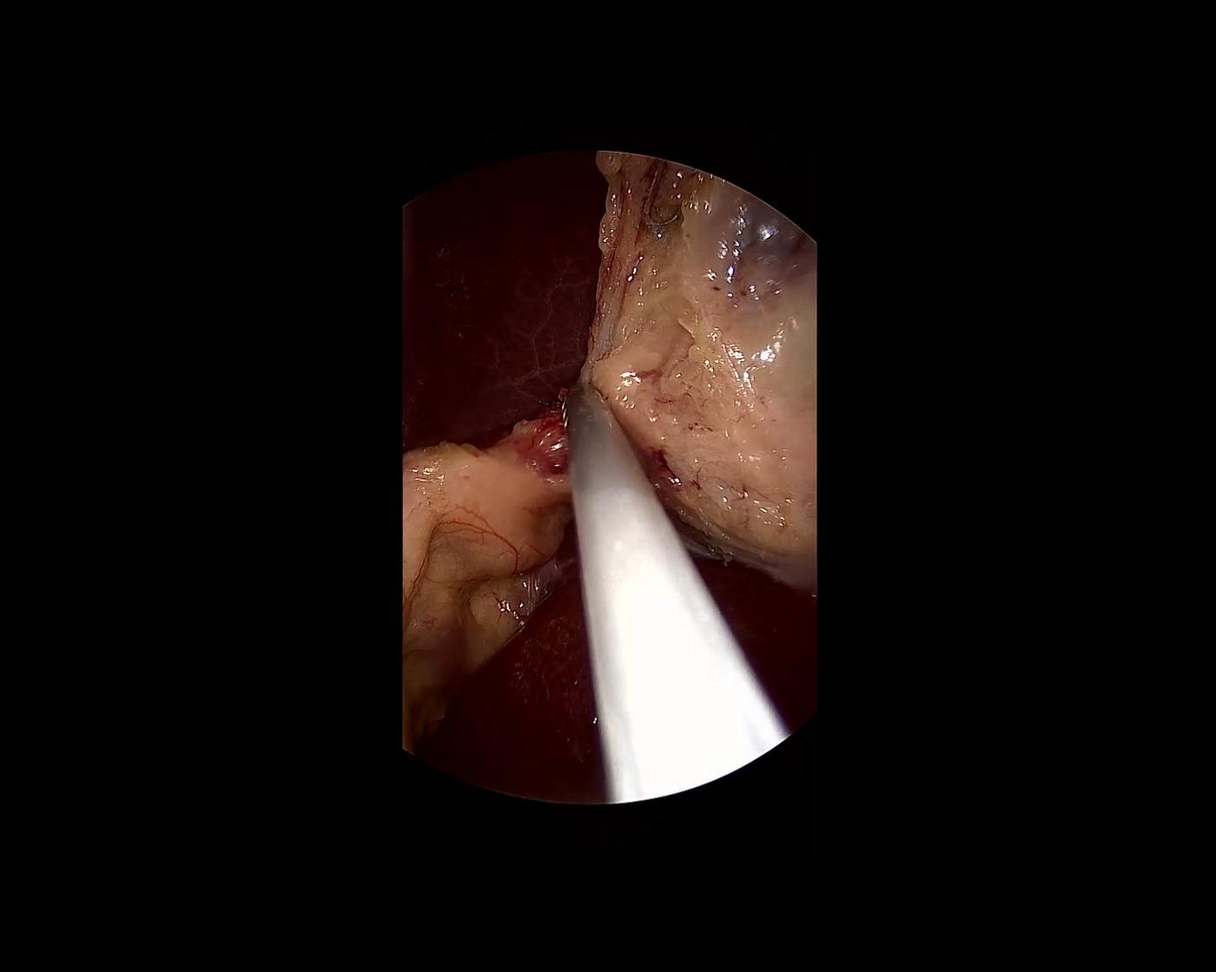Gallbladder: (573, 152, 815, 594)
Liver: (401, 152, 603, 455), (395, 562, 604, 821)
Suction: (529, 359, 796, 805)
